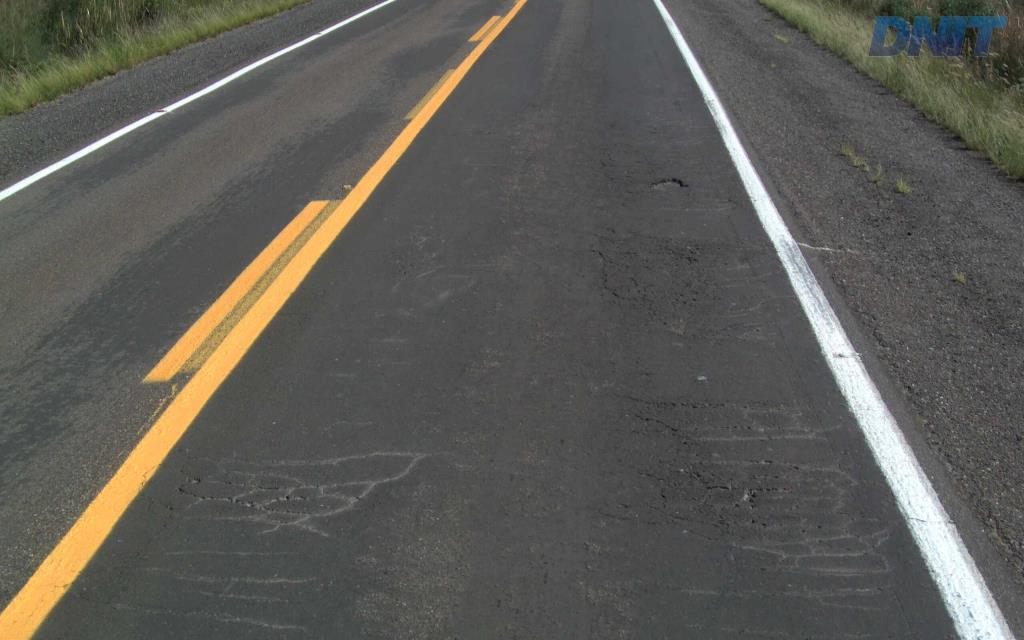crack: (668, 462, 739, 502)
pothole: (647, 172, 688, 194)
